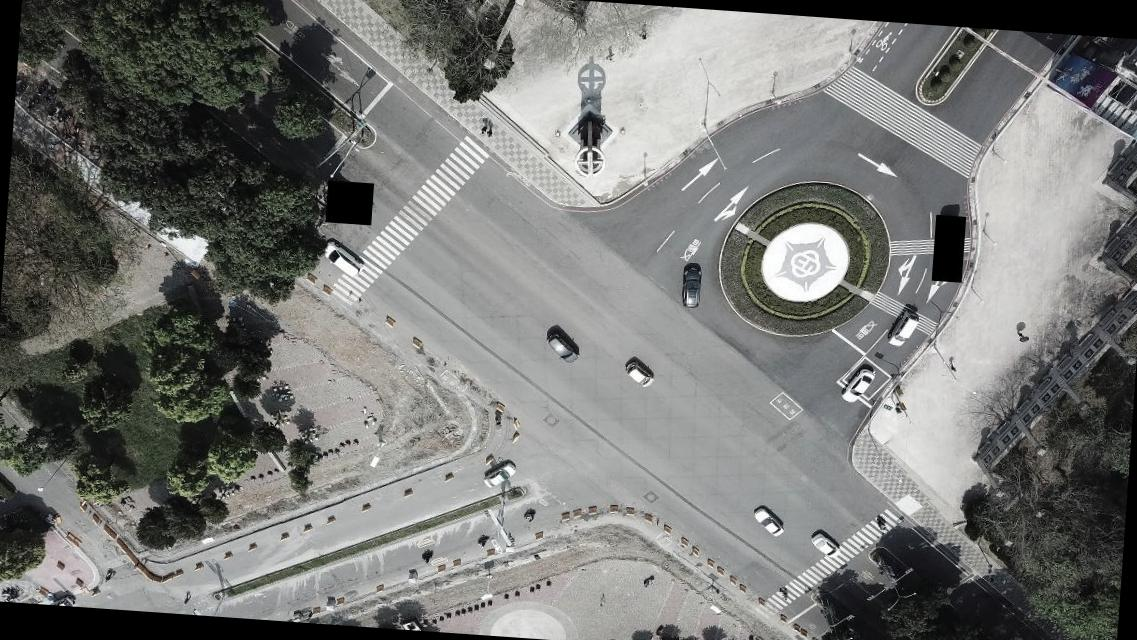vehicle: (322, 240, 363, 278), (839, 366, 874, 404), (543, 328, 579, 364), (750, 504, 786, 538), (885, 309, 916, 348), (678, 264, 703, 310), (622, 358, 655, 388), (481, 461, 515, 488), (809, 532, 840, 558)
